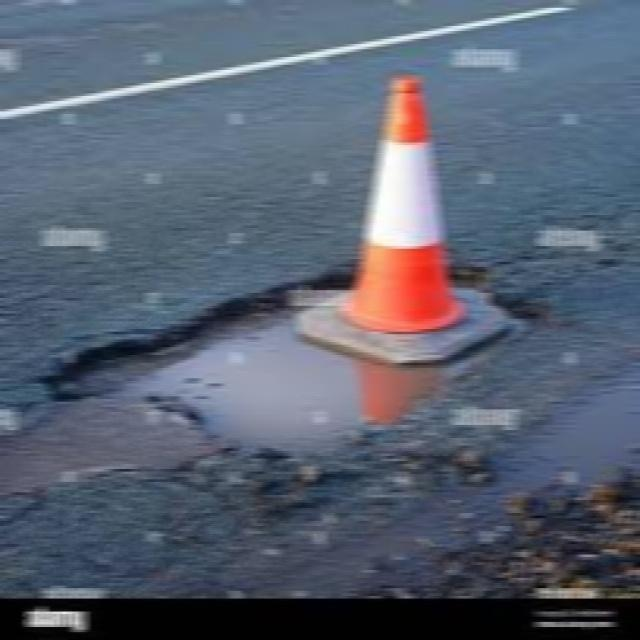Pothole: (0, 220, 570, 470)
